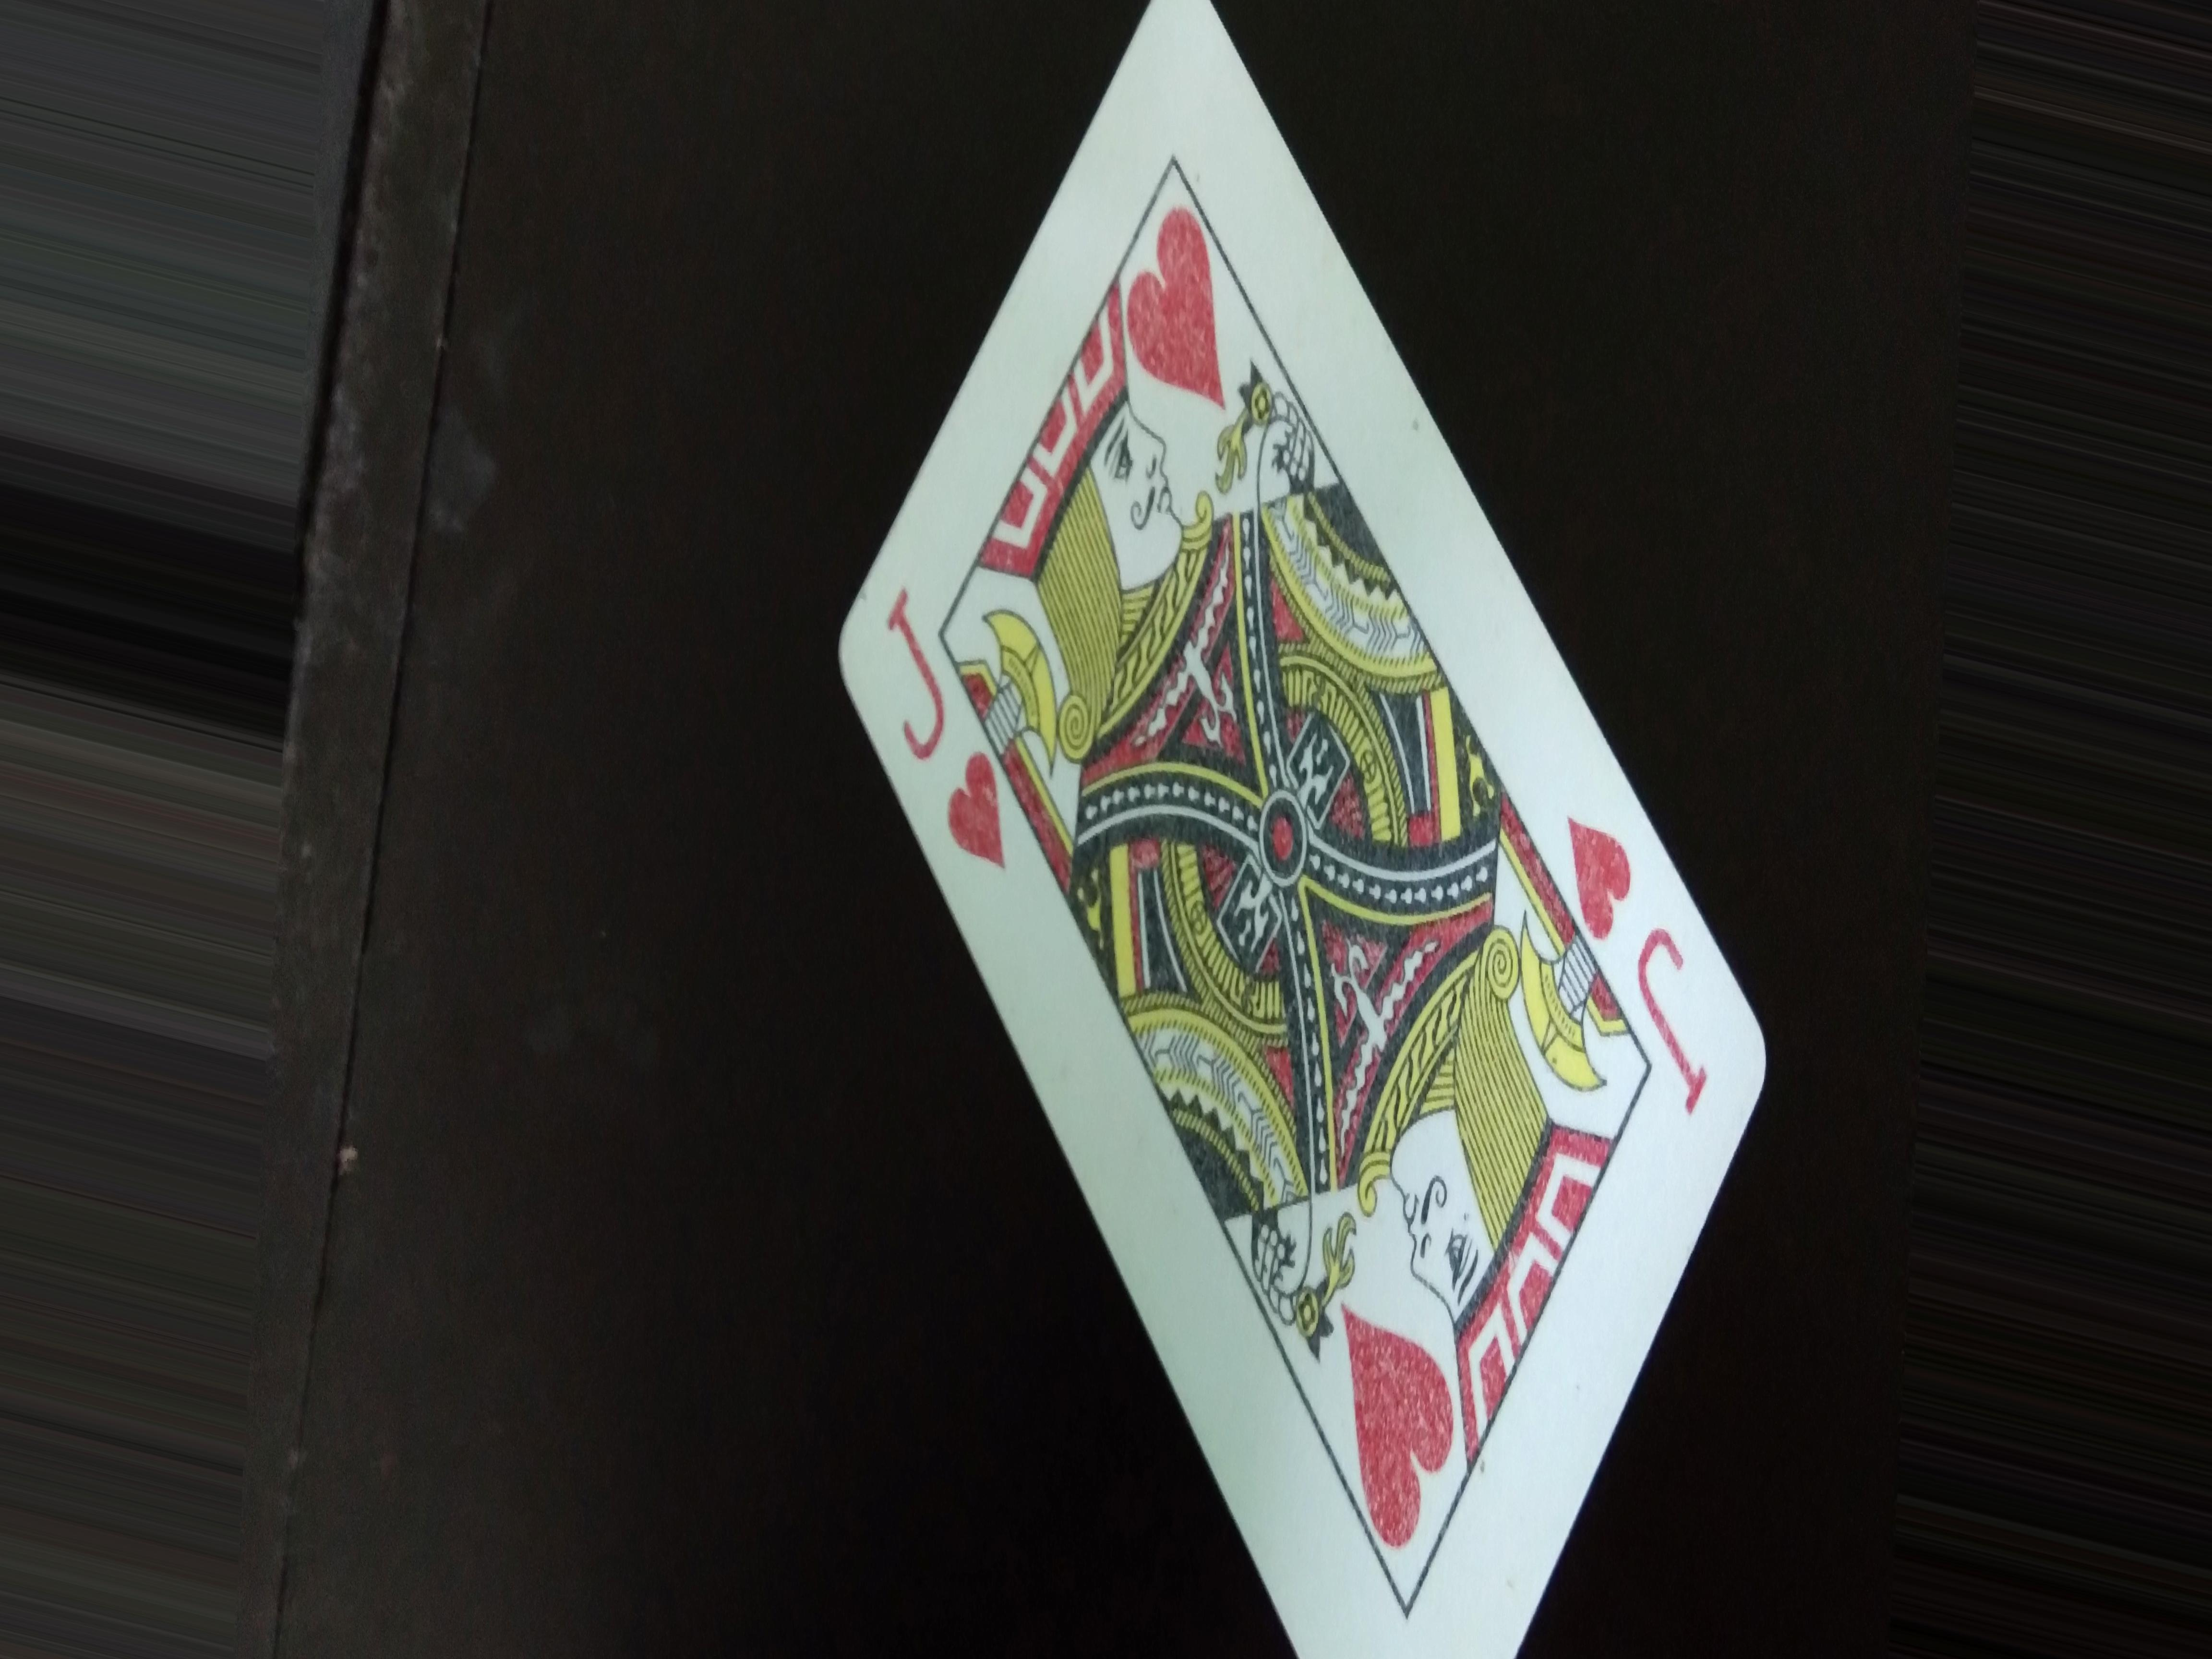JH: (881, 594, 1007, 878)
